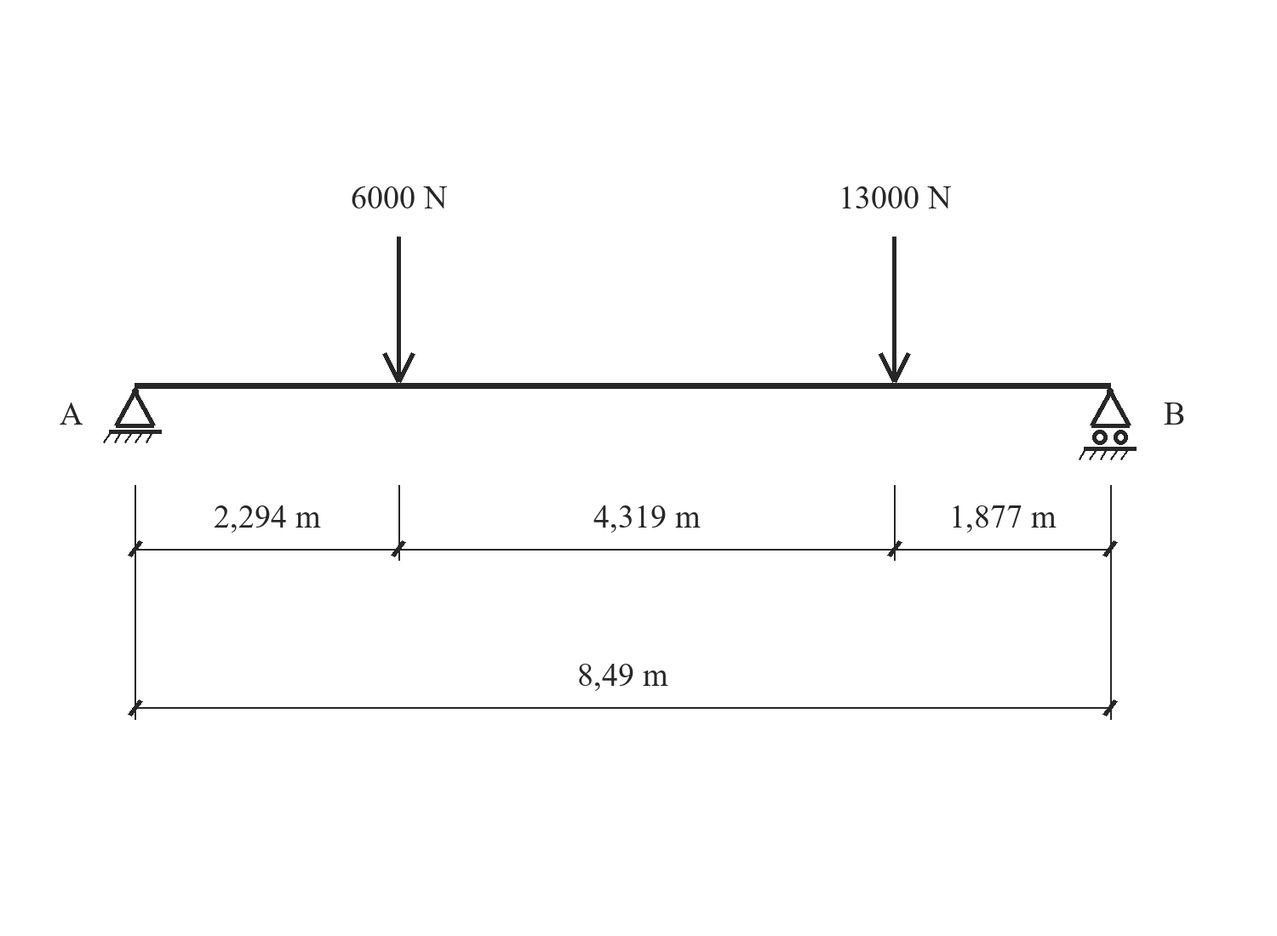pin_support: (103, 388, 162, 443)
point_load: (382, 237, 415, 383), (879, 237, 911, 383)
roller_support: (1079, 388, 1137, 460)
